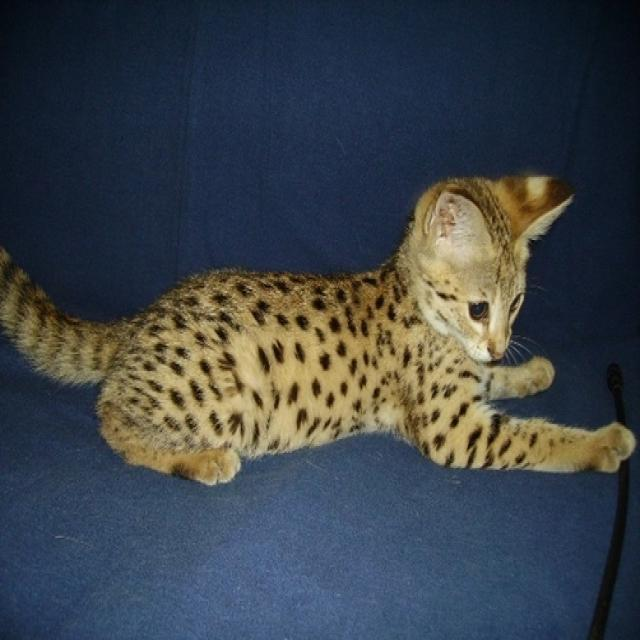Egyptian_Mau: (413, 174, 574, 359)
